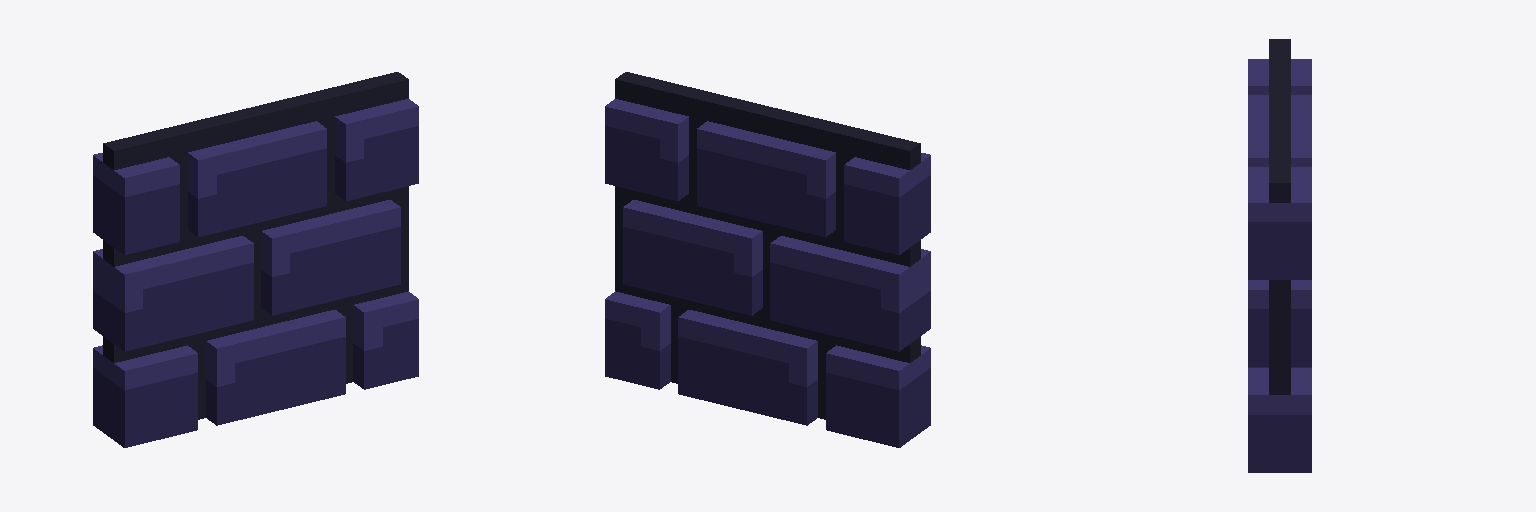
3 renders of one model, left to right at view 1: azimuth 30°, elevation 25°; view 2: azimuth 150°, elevation 25°; view 3: azimuth 270°, elevation 25°, orthographic.
Visible parts, largest first — view 1: object 1; view 2: object 1; view 3: object 1.
Part boxes in pixels (bbox=[...]): object 1: bbox=[93, 72, 418, 447]; object 1: bbox=[605, 72, 930, 447]; object 1: bbox=[1248, 39, 1311, 472].
Bounding box in the file's own units: 1.6 × 1.5 × 0.3.
1 materials, 1 textured.